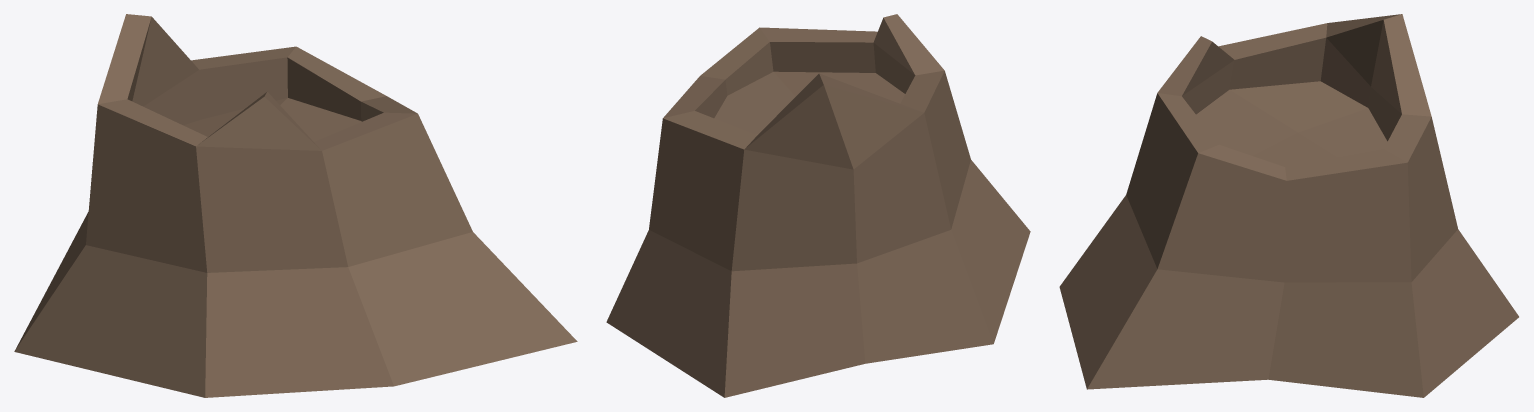
The model's file is Strump_02.fbx.
3 views of the same model, side by side, from view 1: azimuth 30°, elevation 25°; view 2: azimuth 150°, elevation 25°; view 3: azimuth 270°, elevation 25° (orthographic). The views are drawn at different scales.
Parts seen in each view (by area): view 1: Stump_02; view 2: Stump_02; view 3: Stump_02.
Part boxes in pixels (<box>): Stump_02: <box>14,14,577,397</box>; Stump_02: <box>606,14,1030,397</box>; Stump_02: <box>1059,14,1518,397</box>.
Bounding box in the file's own units: 72.92 × 50.04 × 73.46.
